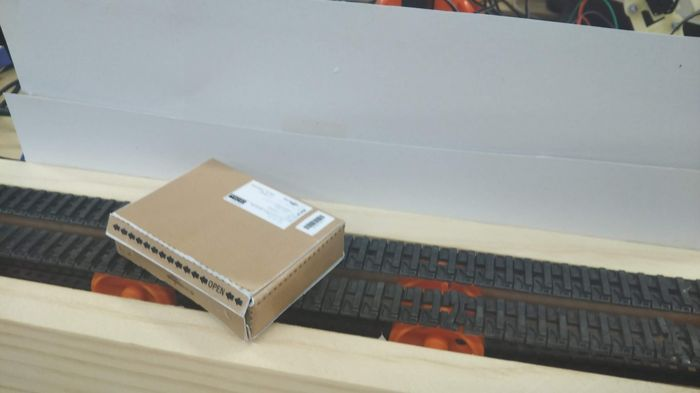box2: (102, 155, 351, 339)
